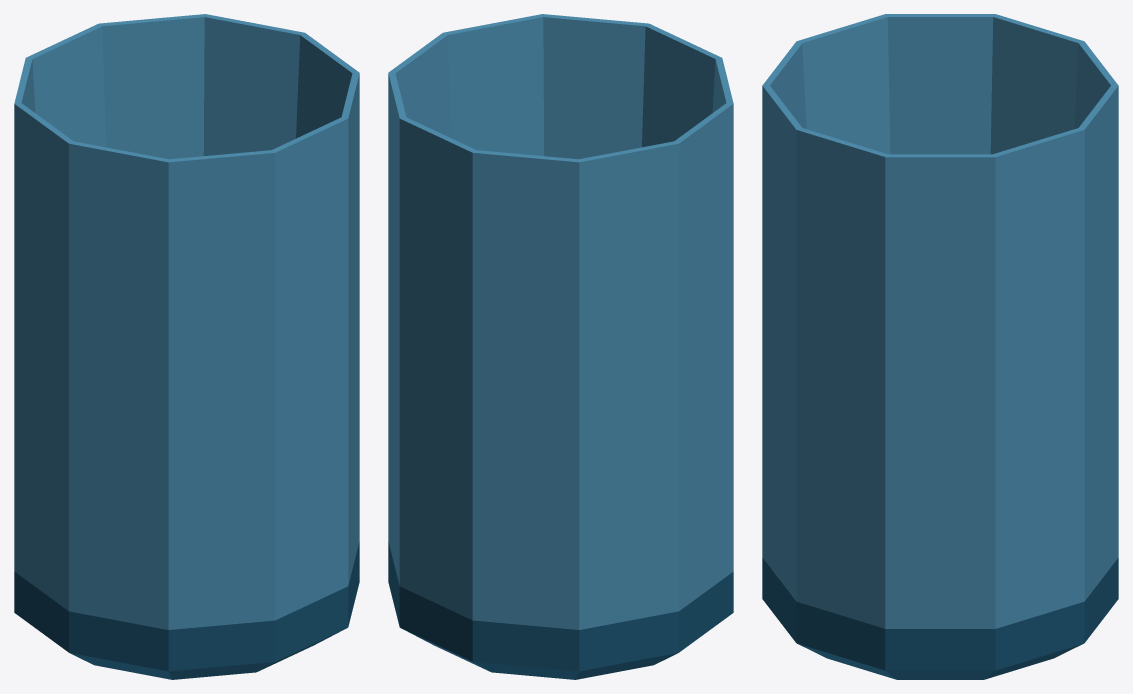
The model's file is FurnAcc_Glass.fbx.
3 renders of one model, left to right at view 1: azimuth 30°, elevation 25°; view 2: azimuth 150°, elevation 25°; view 3: azimuth 270°, elevation 25°, orthographic.
Parts seen in each view (by area): view 1: FurnAcc_Glass; view 2: FurnAcc_Glass; view 3: FurnAcc_Glass.
Boxes of the visible parts, <box> form: FurnAcc_Glass: <box>14,14,359,679</box>; FurnAcc_Glass: <box>388,14,733,679</box>; FurnAcc_Glass: <box>762,14,1118,679</box>.
Size of the model in its own units: 5.71 by 10 by 6.
